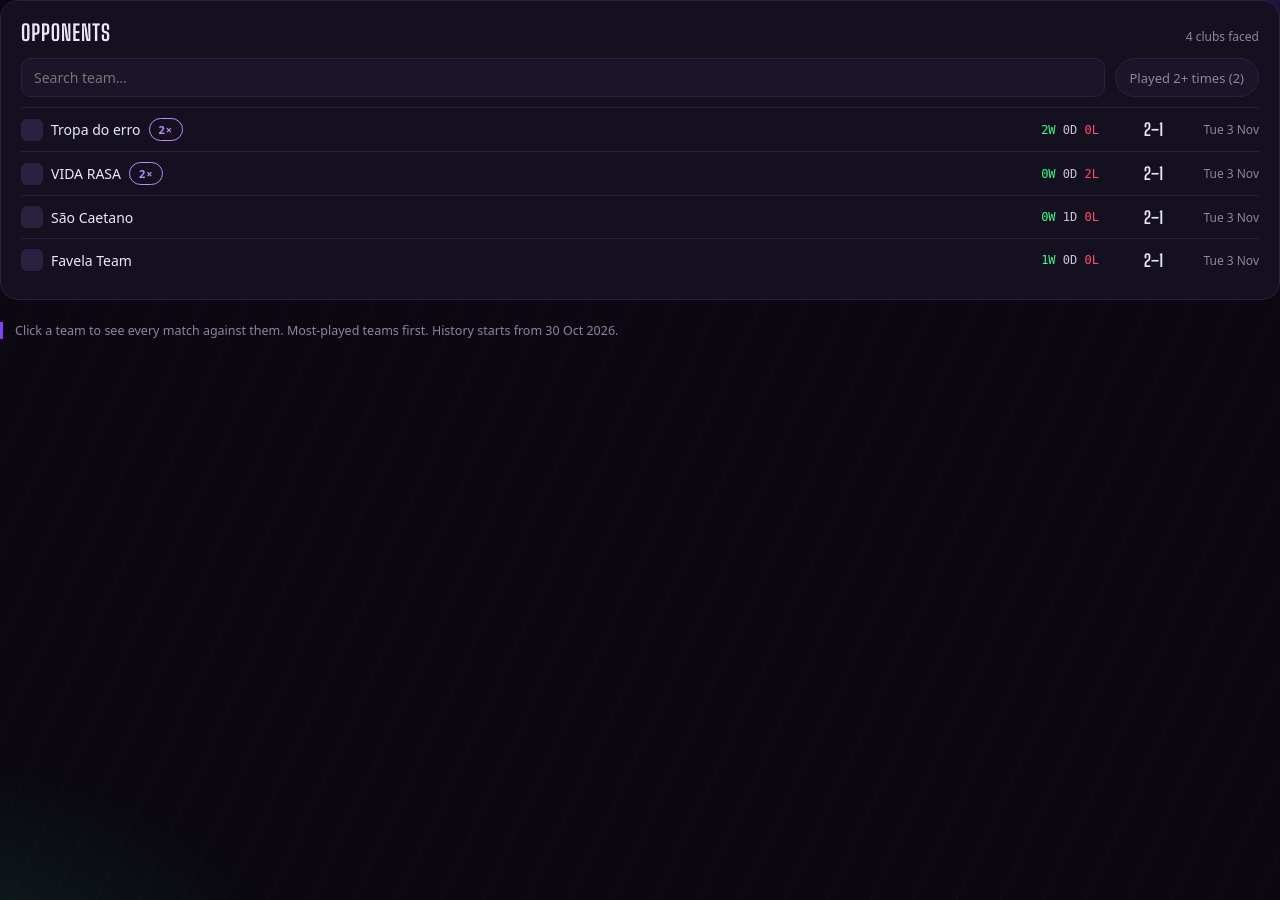
Test case: clicking a team shows its matches
The image size is (1280, 900).
Click the button "Tropa do erro 2× 2W 0D 0L 2–1 Tue 3 Nov" at (96, 130), box [21, 107, 1259, 151]
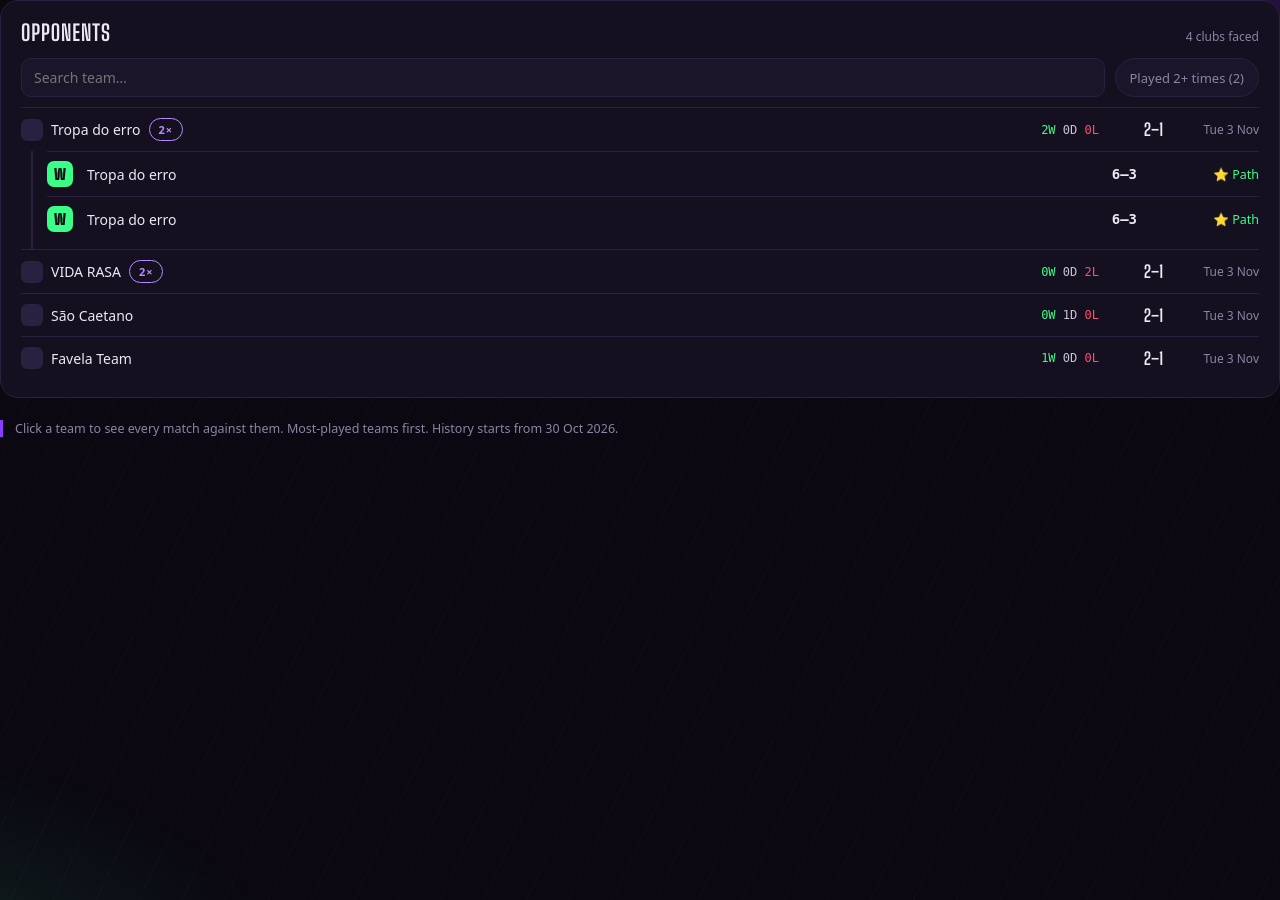
Result: the text "Tropa do erro" is shown 3 times at [51, 120, 140, 139]; [87, 164, 176, 184]; [87, 210, 176, 228]
